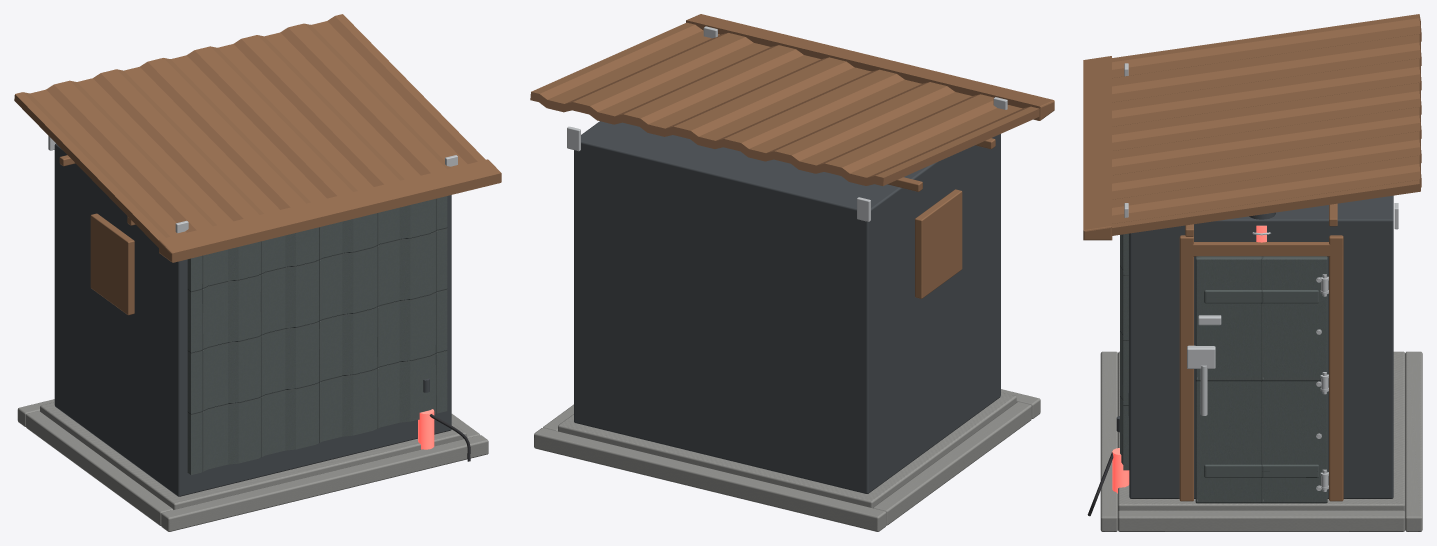
The model's file is fps-survival-forest-outpost-fuel-shed-de138f49__32621.glb.
3 renders of one model, left to right at view 1: azimuth 30°, elevation 25°; view 2: azimuth 150°, elevation 25°; view 3: azimuth 270°, elevation 25°, orthographic. The views are drawn at different scales.
Parts seen in each view (by area): view 1: fuel-shed; view 2: fuel-shed; view 3: fuel-shed, door/panel, door/steel.
Boxes of the visible parts, x1,y1,x2,y2 form: fuel-shed: [14, 14, 501, 531]; fuel-shed: [530, 14, 1054, 531]; fuel-shed: [1083, 14, 1422, 531]; door/panel: [1195, 256, 1327, 503]; door/steel: [1187, 274, 1328, 491].
Bounding box in the file's own units: 2.82 × 2.7 × 2.36.
7 materials, 2 textured.
